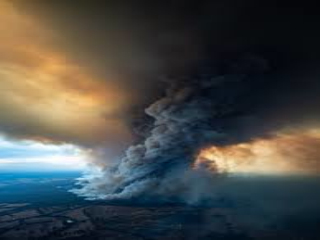smoke: (83, 82, 222, 201)
